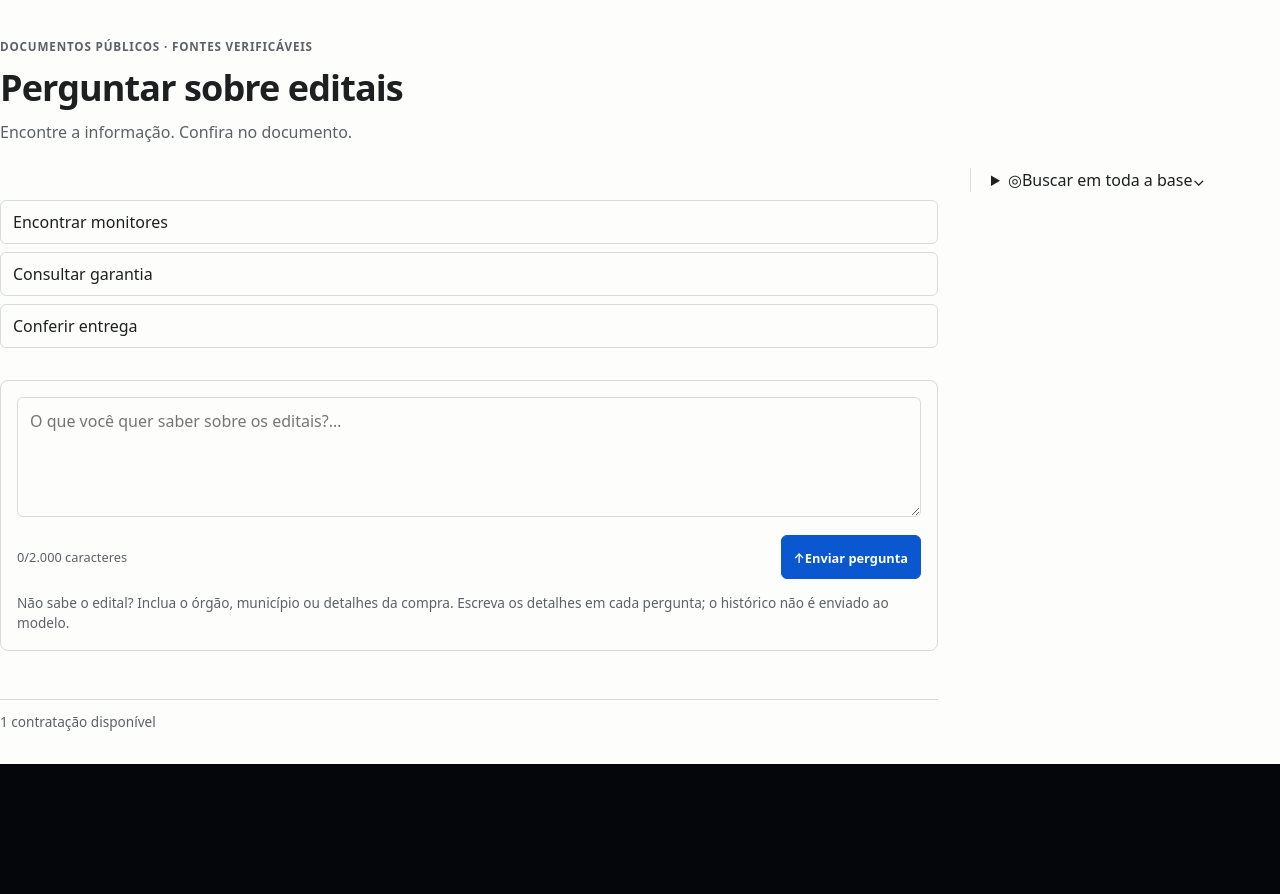
Test case: mantém os turnos em sequência antes do campo e envia com Enter
Expected: the text "1 contratação disponível" is shown, [0, 712, 156, 731]
Type "Primeira pergunta" into the text box named "Sua pergunta" at {"x": 469, "y": 457}, box [17, 397, 921, 517]
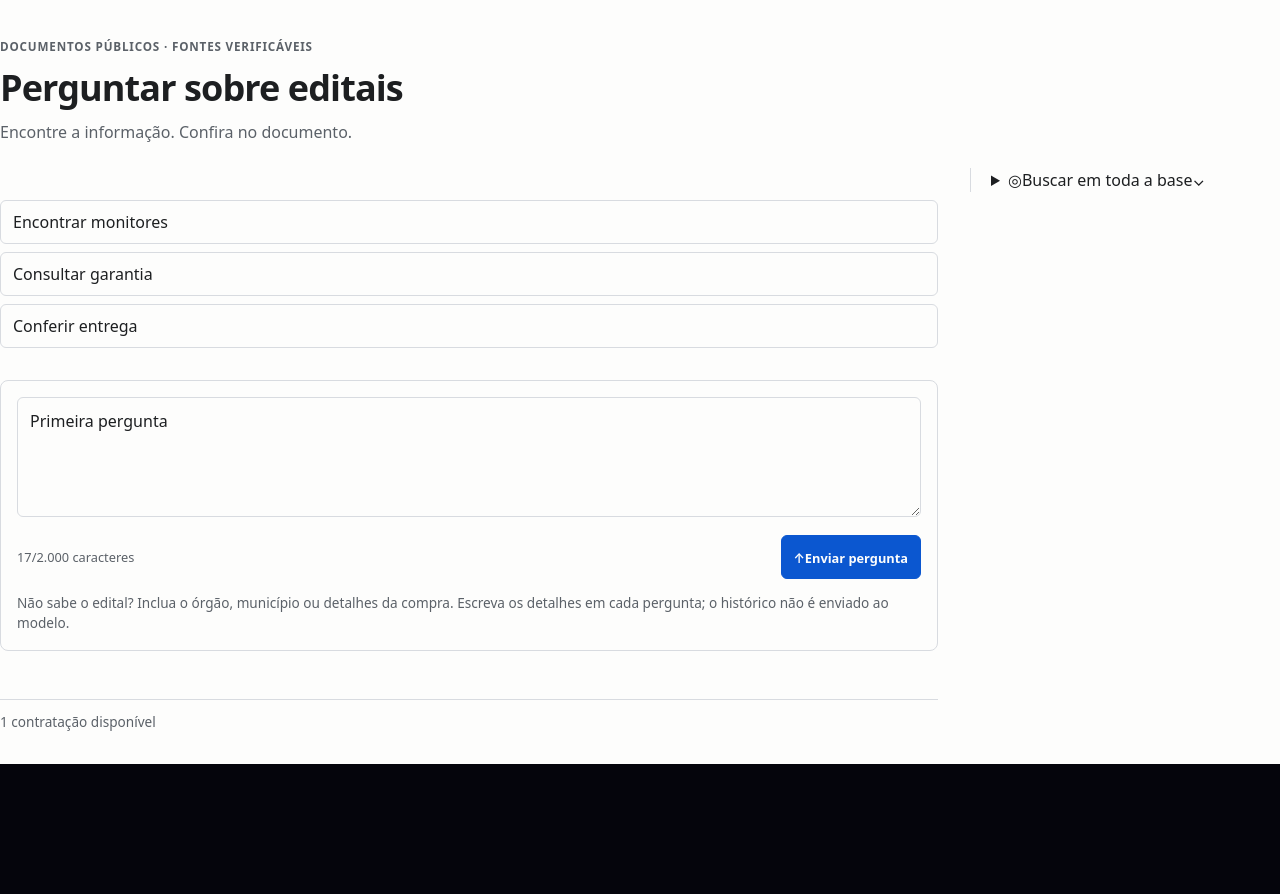
Press Enter in the text box named "Sua pergunta", box [17, 397, 921, 517]
Press Enter in the text box named "Sua pergunta", box [17, 397, 921, 517]
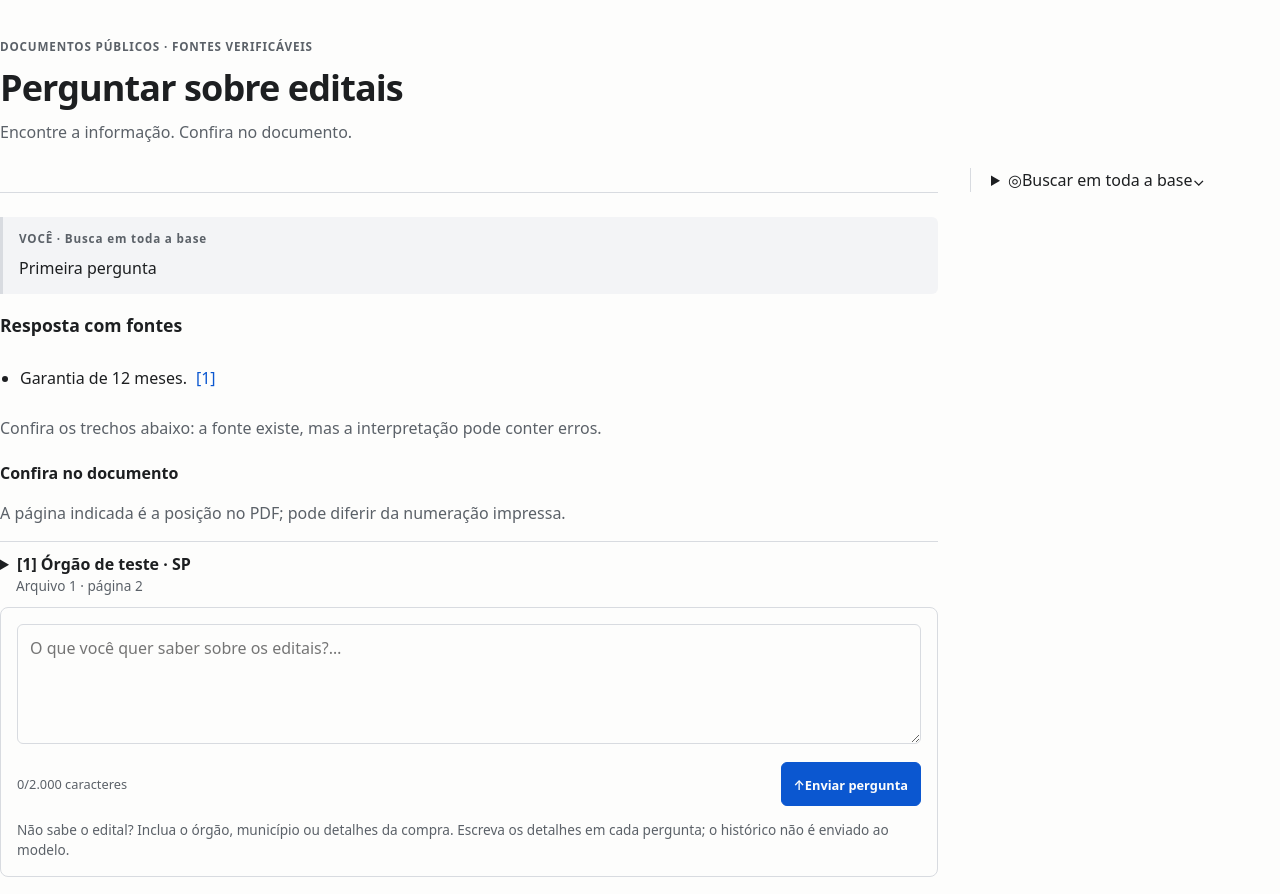
Expected: the heading "Resposta com fontes" is shown, [0, 313, 182, 337]
Type "Segunda pergunta" into the text box named "Sua pergunta" at {"x": 469, "y": 684}, box [17, 624, 921, 744]
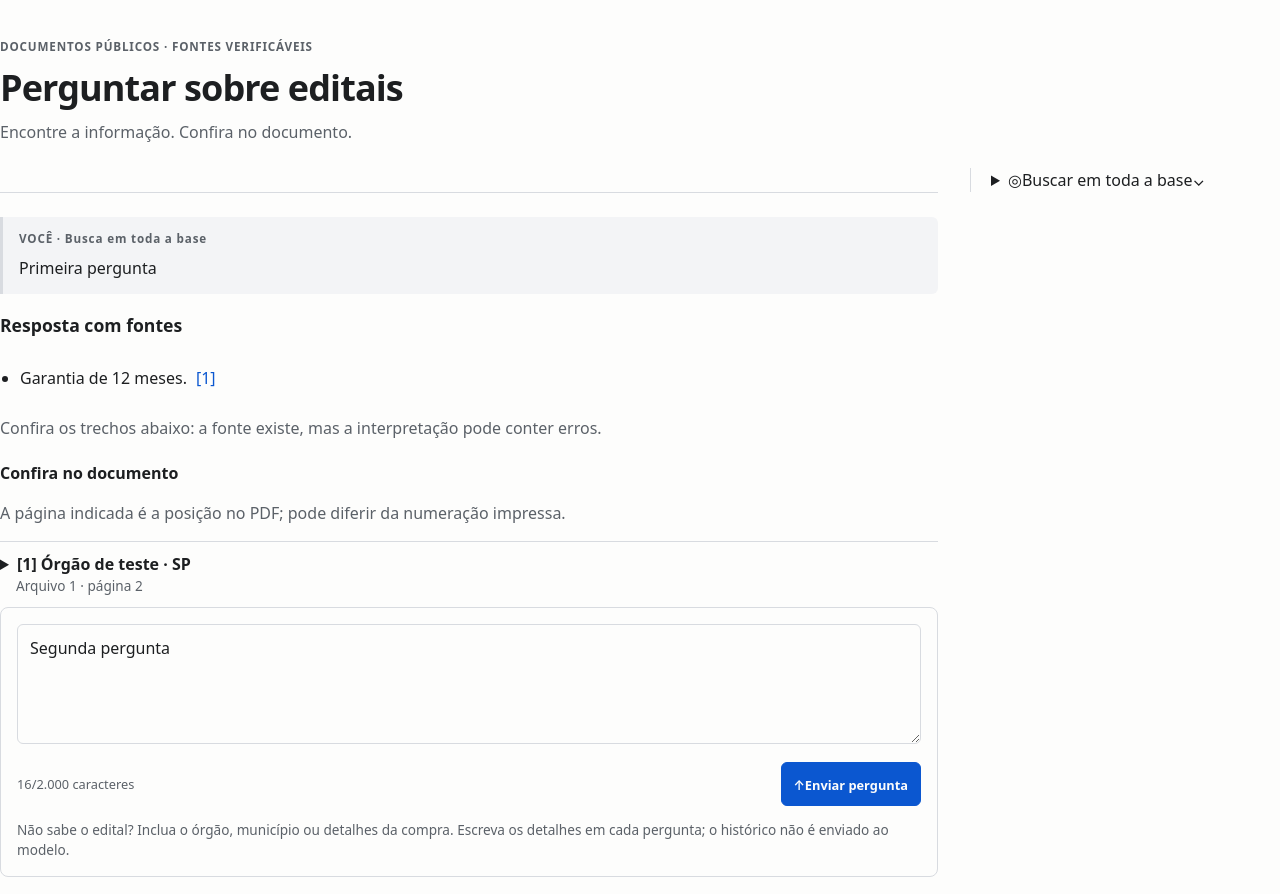
Click the button "↑Enviar pergunta" at {"x": 851, "y": 784}, box [780, 762, 921, 806]
(page scrolled)
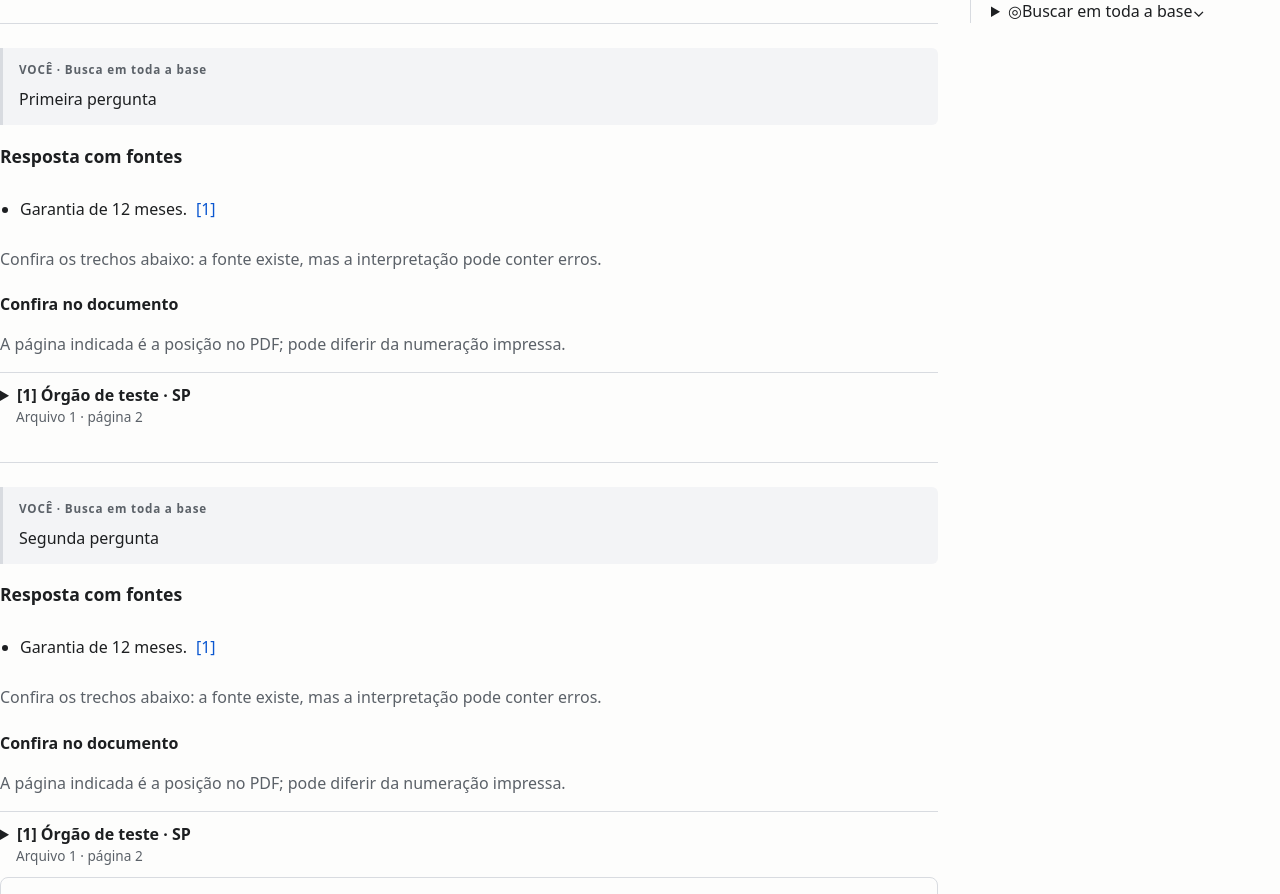
Expected: the element named "Conversa" shows "Primeira pergunta", [19, 88, 157, 110]
Expected: the number of headings "Resposta com fontes" is 2, [0, 144, 182, 168]; [0, 582, 182, 606]
Expected: the element named "Conversa" shows "Segunda pergunta", [19, 526, 159, 548]
